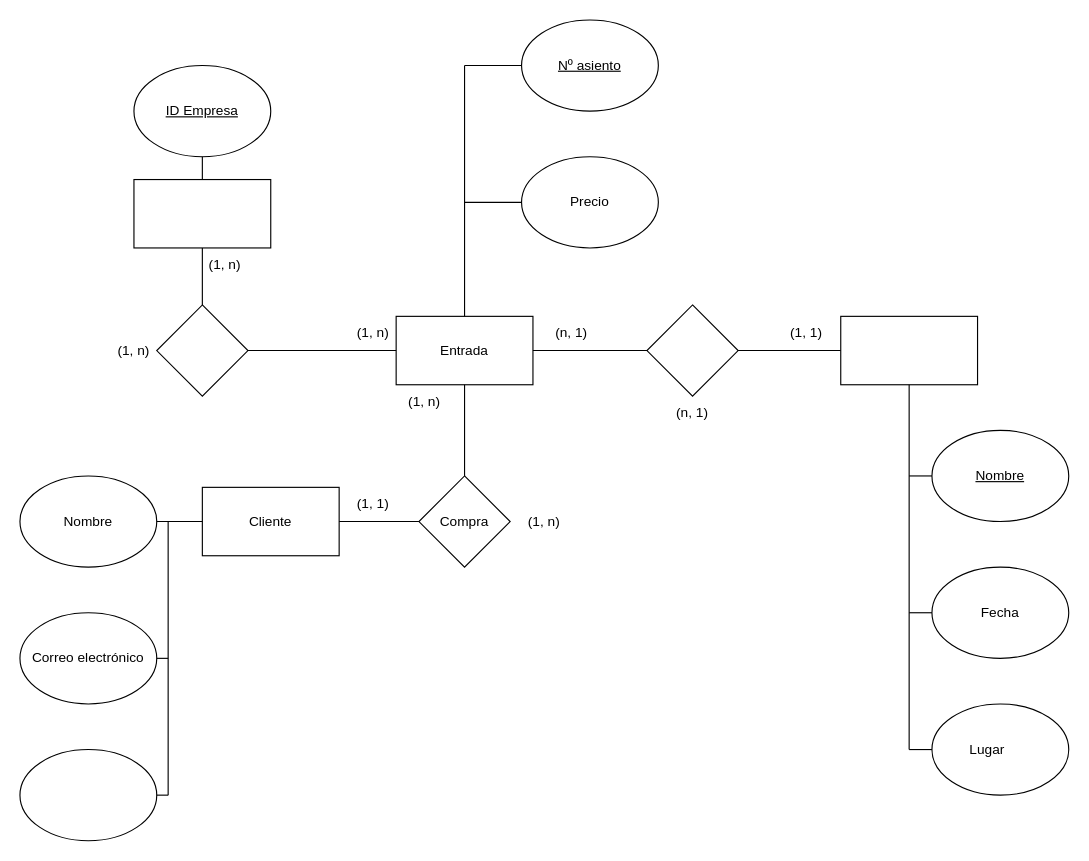
Some shapes in this 1089 by 861 pixel diagram are drawn without their labels. The shapes that lost their labels are listed below. From the top down, each one's centre as x and y in pixels, then its label:
the point at 202,213: Empresa
the point at 202,350: Vende
the point at 692,350: corresponde
the point at 909,350: Evento
the point at 88,794: Nº Tarjeta
